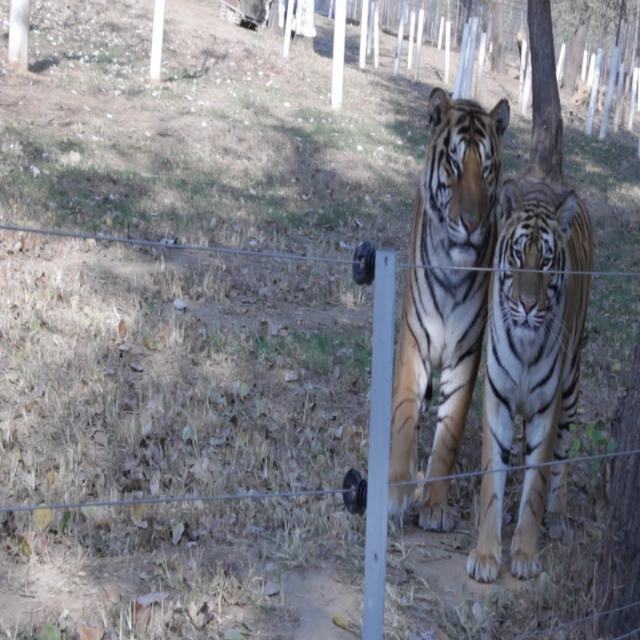Tiger: (376, 79, 510, 547), (466, 177, 593, 582)
